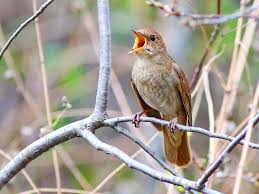соловей: (111, 16, 206, 170)
